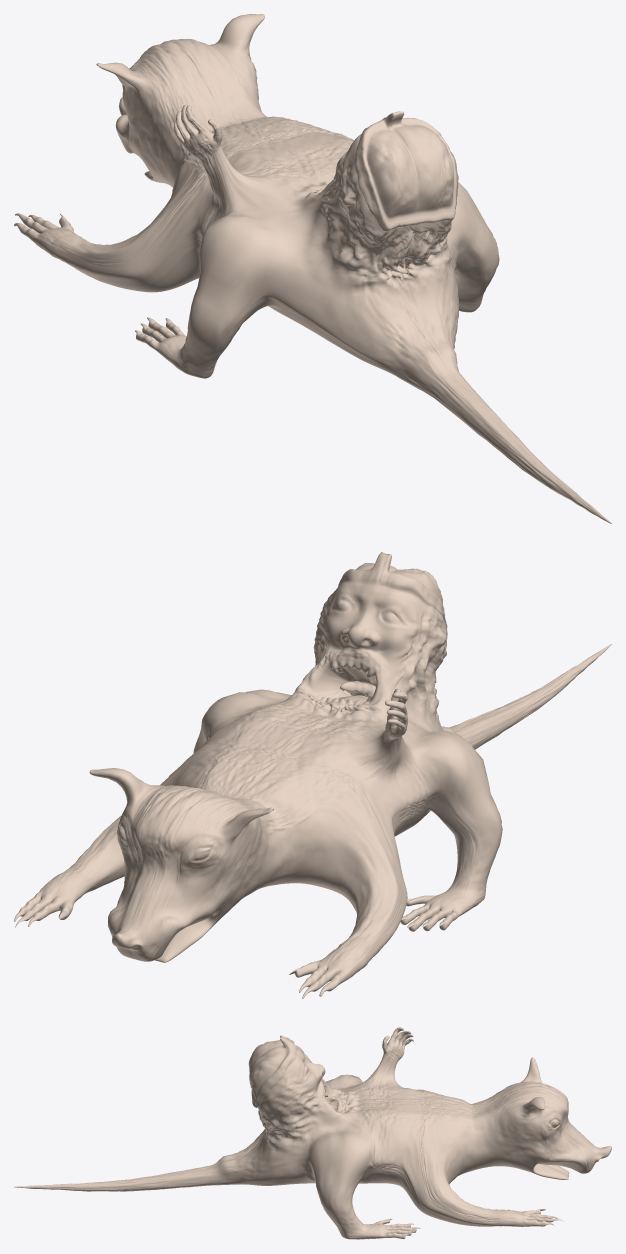
File: Dwarf_Rat_Creature.fbx
3 views of the same model, one above another, from view 1: azimuth 30°, elevation 25°; view 2: azimuth 150°, elevation 25°; view 3: azimuth 270°, elevation 25° (orthographic). The views are drawn at different scales.
Visible parts, largest first — view 1: Mesh_Dwarf_Rat1; view 2: Mesh_Dwarf_Rat1; view 3: Mesh_Dwarf_Rat1.
Boxes of the visible parts, left/top/right/bottom form: Mesh_Dwarf_Rat1: left=14, top=14, right=611, bottom=523; Mesh_Dwarf_Rat1: left=14, top=552, right=611, bottom=998; Mesh_Dwarf_Rat1: left=14, top=1027, right=611, bottom=1239.
Size of the model in its own units: 16.08 by 13.1 by 43.33.
